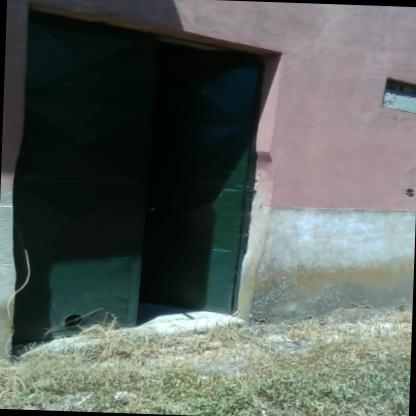closed: (0, 11, 284, 349)
